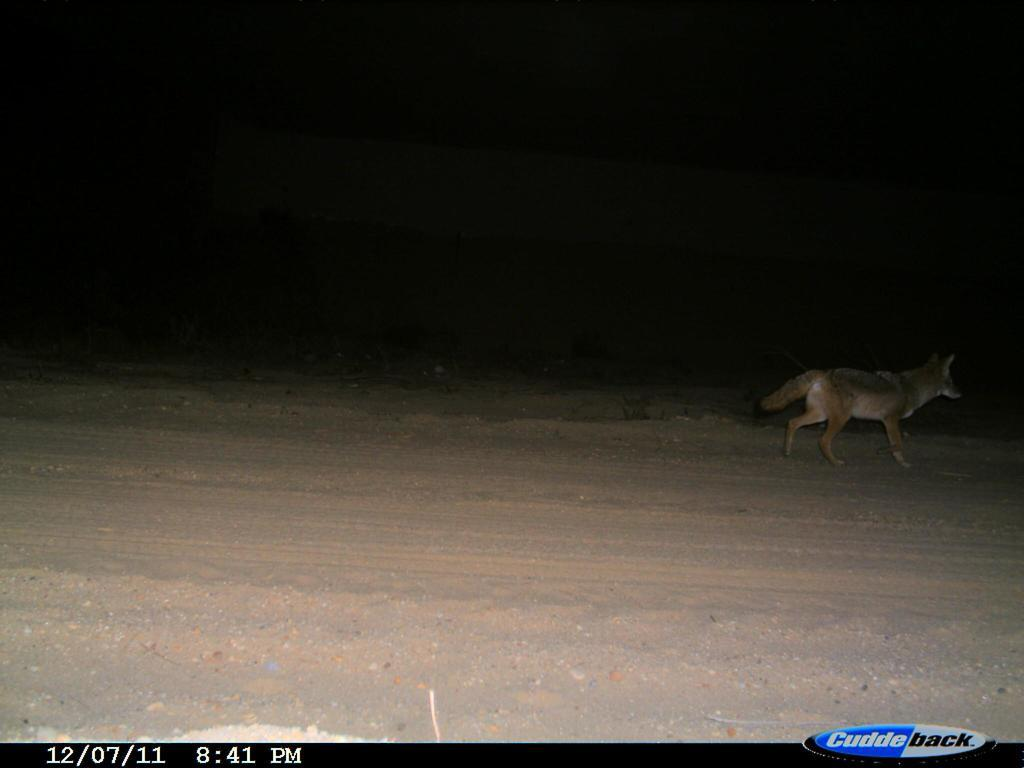coyote: (761, 350, 966, 468)
